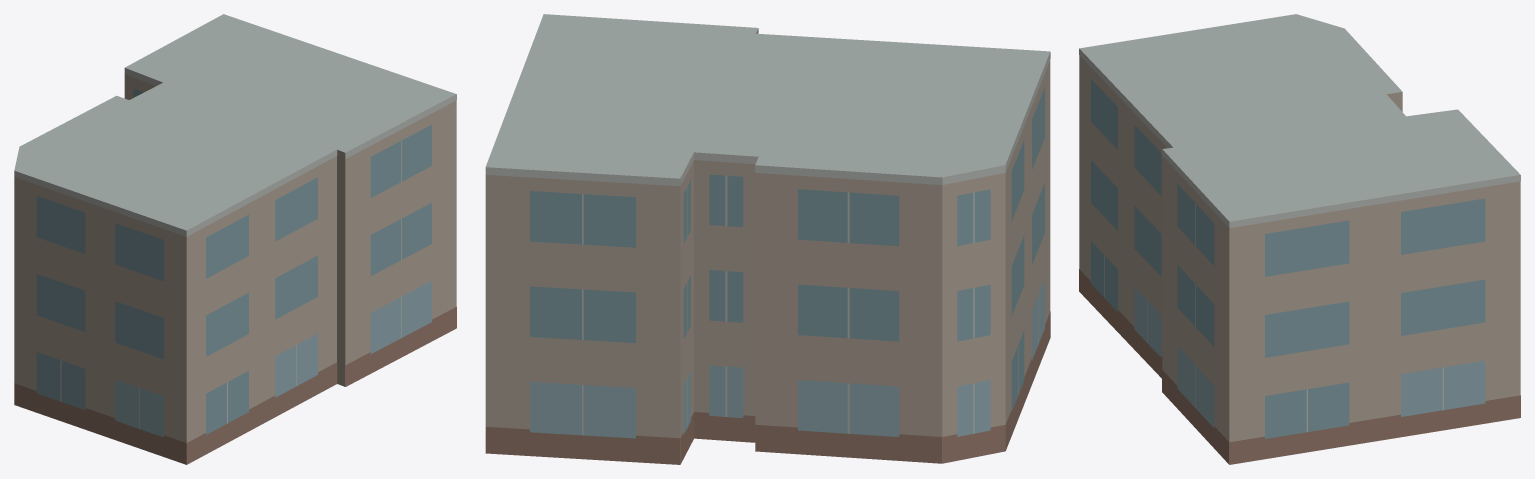
File: survey-upis-32672442.glb
3 renders of one model, left to right at view 1: azimuth 30°, elevation 25°; view 2: azimuth 150°, elevation 25°; view 3: azimuth 270°, elevation 25°, orthographic. The views are drawn at different scales.
Parts seen in each view (by area): view 1: survey-upis-32672442.tmp; view 2: survey-upis-32672442.tmp; view 3: survey-upis-32672442.tmp.
Boxes of the visible parts, left/top/right/bottom form: survey-upis-32672442.tmp: left=14, top=14, right=456, bottom=464; survey-upis-32672442.tmp: left=485, top=14, right=1050, bottom=464; survey-upis-32672442.tmp: left=1079, top=14, right=1520, bottom=464.
Bounding box in the file's own units: 16.78 × 9.15 × 15.07.
